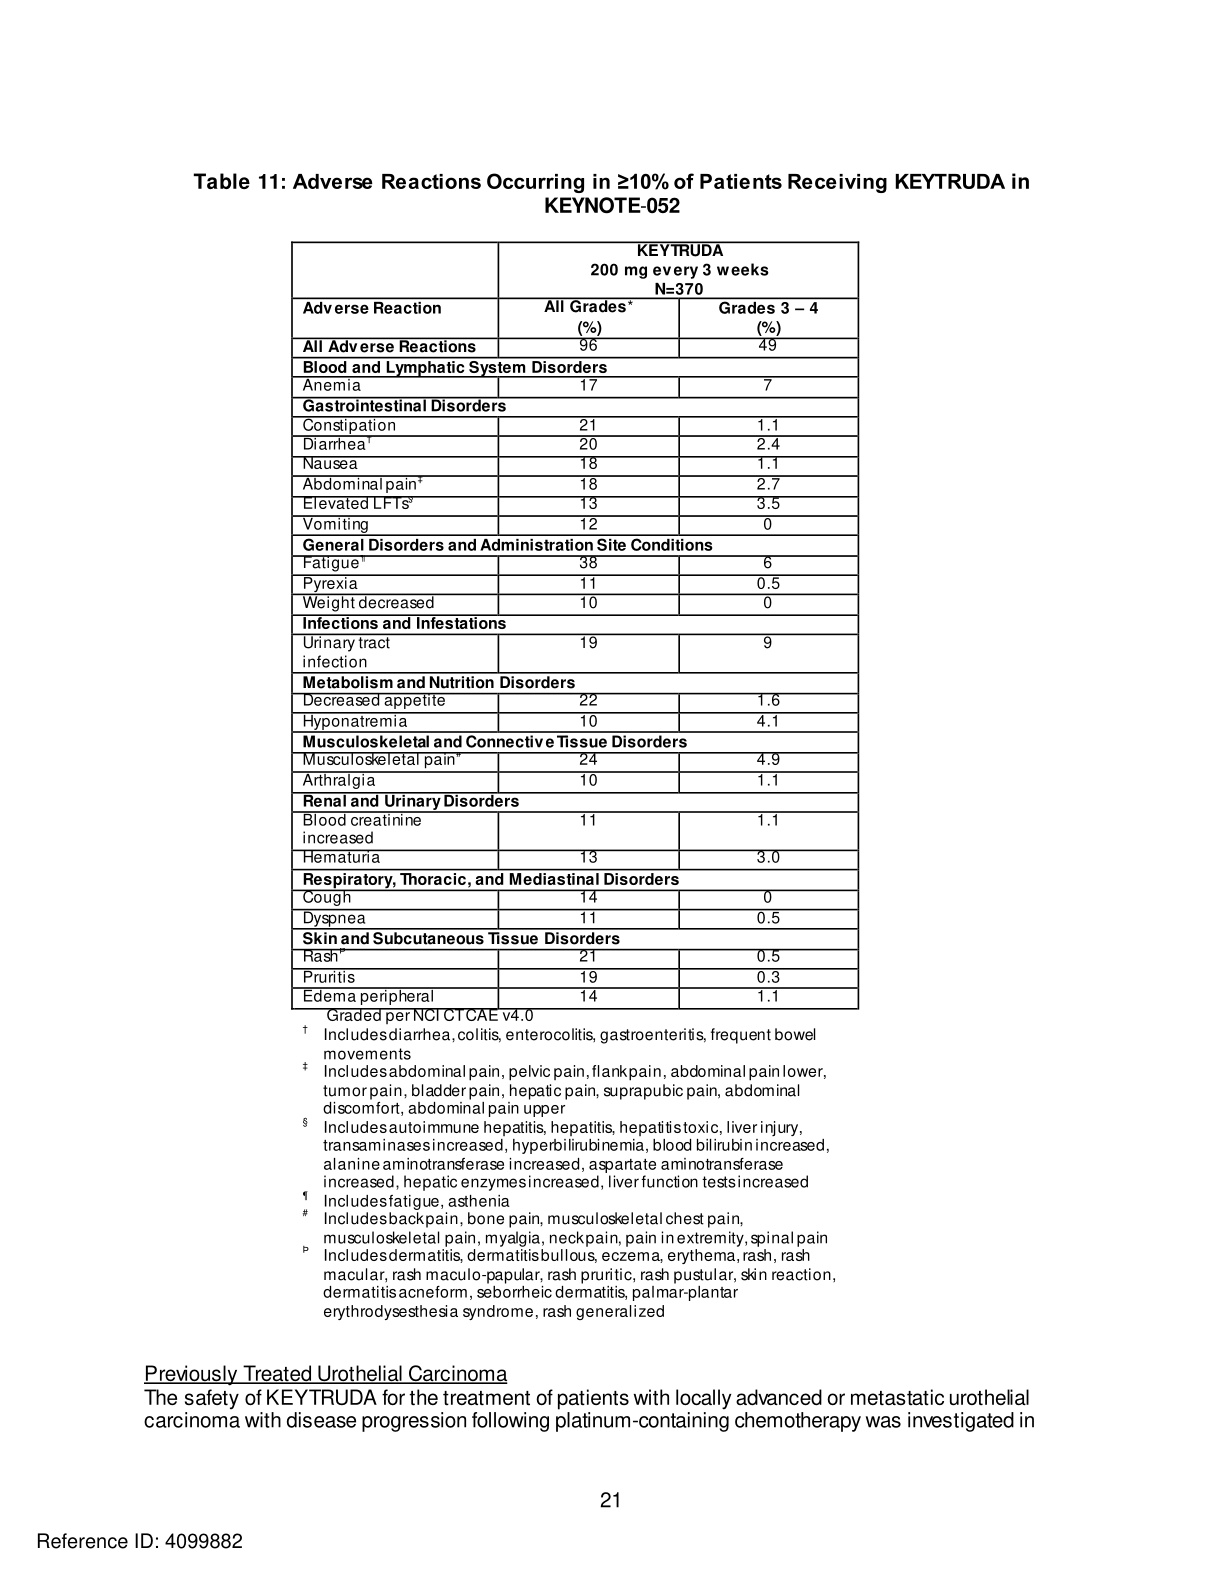merged_cells: (291, 240, 860, 1011)
